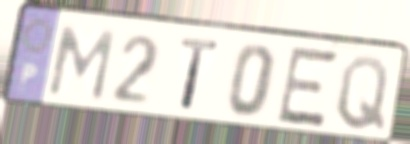0: (225, 41, 278, 122)
2: (109, 33, 163, 108)
E: (273, 44, 342, 130)
M: (44, 23, 119, 105)
Q: (333, 53, 392, 134)
T: (179, 35, 223, 115)
